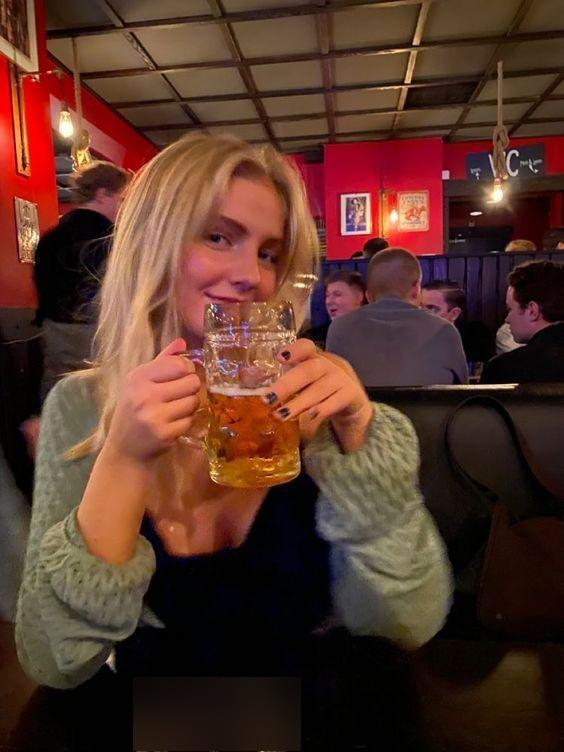glass-mug: (167, 292, 305, 492)
